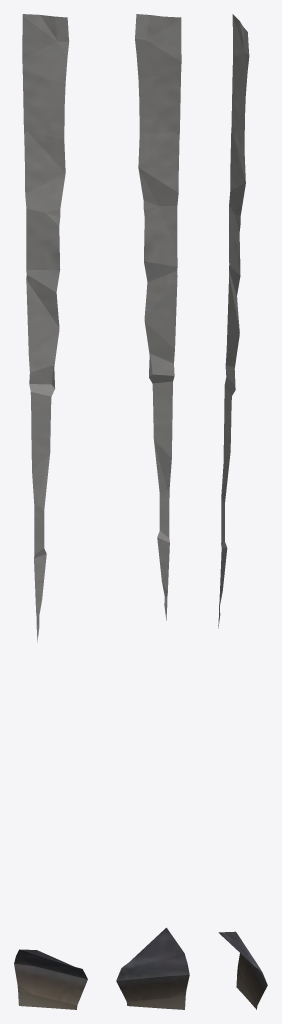
The picture shows the model from 3 angles, left to right: view 1: azimuth 30°, elevation 25°; view 2: azimuth 210°, elevation 25°; view 3: azimuth 330°, elevation 25°; orthographic projection.
Size of the model in its own units: 0.0445 by 0.8373 by 0.0358.
1 material, 1 textured.
